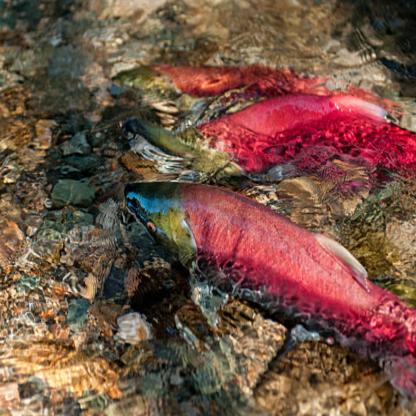sockeye: (123, 165, 414, 365), (178, 94, 414, 157), (125, 57, 322, 92)
